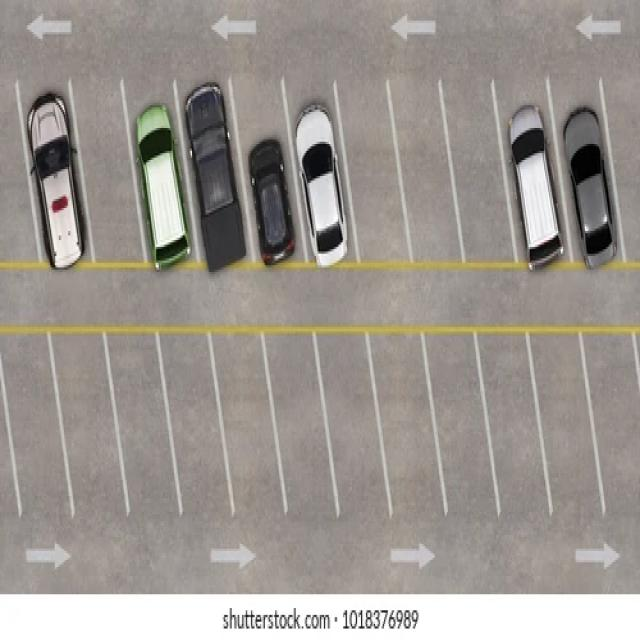libre: (0, 334, 639, 524), (335, 79, 525, 271), (75, 78, 150, 262), (0, 81, 41, 267), (605, 84, 639, 279)
ocupado: (129, 79, 363, 282), (499, 79, 629, 282), (23, 82, 94, 265)
